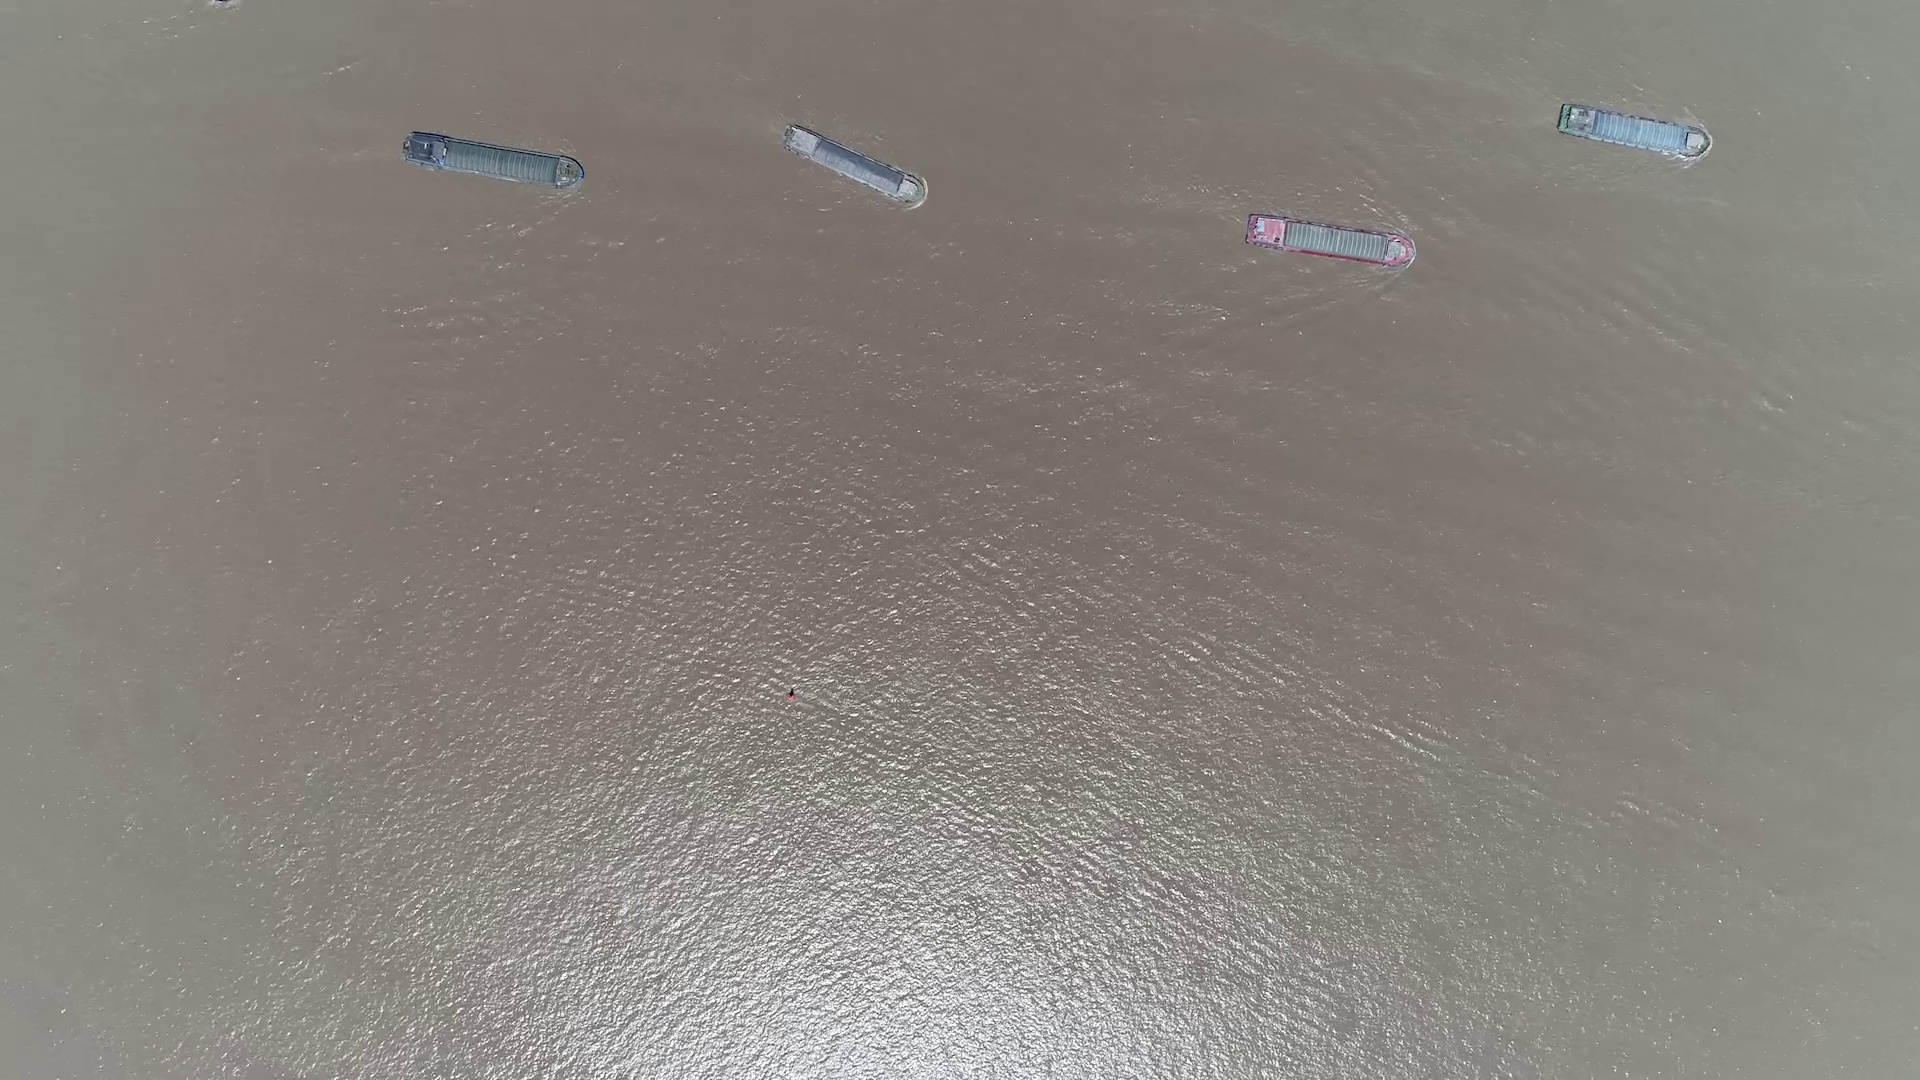ship: (781, 127, 926, 204), (402, 131, 585, 190), (1244, 214, 1415, 266), (1557, 107, 1708, 156)
